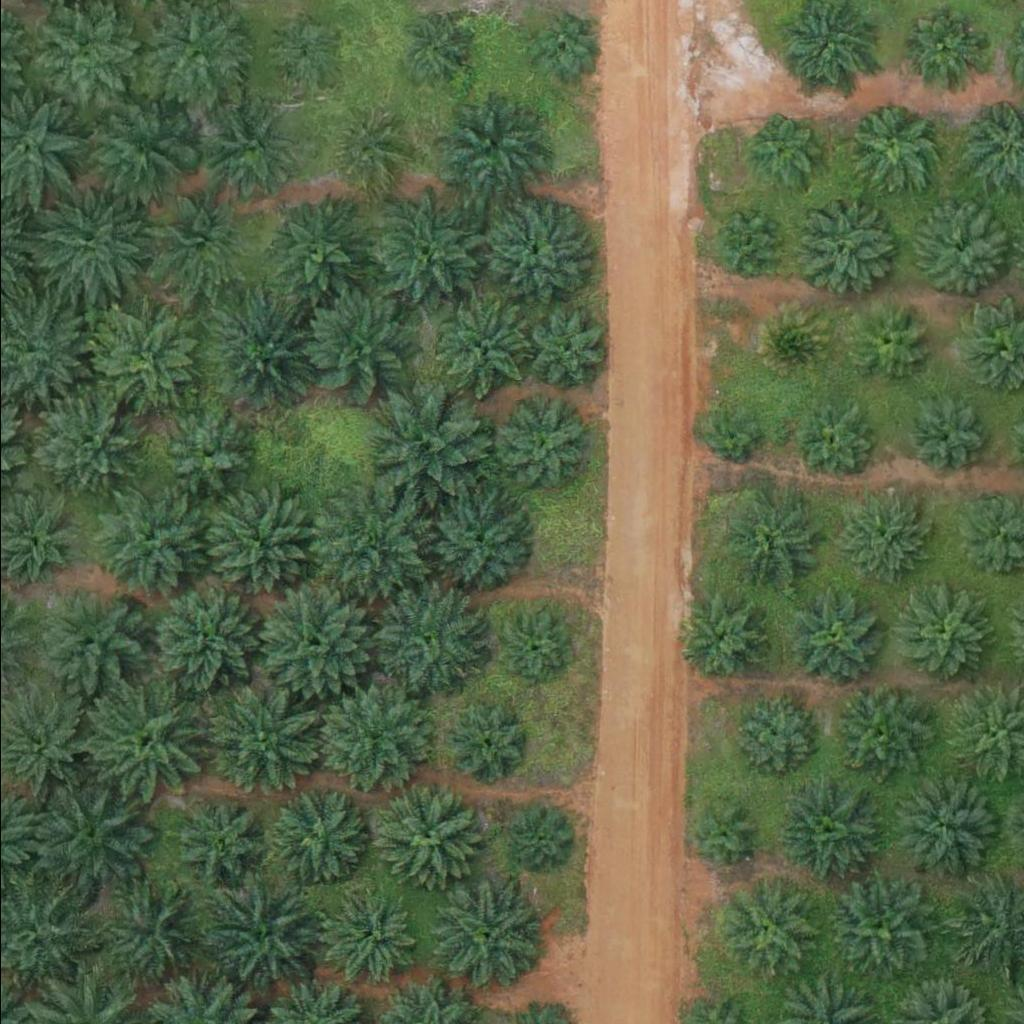Kelapa_Sawit: (426, 82, 552, 207), (365, 189, 491, 314), (295, 284, 421, 409), (362, 381, 488, 506), (303, 484, 429, 609), (138, 578, 264, 703), (196, 679, 322, 804), (81, 678, 207, 803), (25, 774, 151, 899), (205, 870, 331, 995), (86, 869, 212, 994), (197, 490, 311, 603), (82, 92, 195, 205), (28, 188, 141, 301), (93, 488, 206, 601), (27, 582, 140, 695), (316, 682, 429, 795), (259, 585, 373, 697), (256, 198, 369, 310), (140, 185, 253, 297), (203, 297, 316, 409), (84, 302, 197, 414), (29, 383, 142, 495), (375, 580, 488, 692), (828, 880, 929, 980), (716, 880, 817, 980), (896, 780, 997, 880), (774, 781, 875, 881), (830, 686, 931, 786), (889, 584, 990, 684), (487, 199, 588, 299), (378, 787, 479, 887), (263, 786, 364, 886), (437, 889, 538, 989), (316, 883, 417, 983), (673, 587, 773, 687), (723, 493, 823, 593), (909, 203, 1009, 303), (791, 199, 891, 299), (431, 298, 531, 398), (425, 488, 525, 588), (168, 793, 268, 893), (729, 692, 817, 780), (897, 10, 985, 98), (162, 412, 250, 500), (789, 597, 877, 684), (846, 493, 934, 580), (844, 109, 932, 196), (209, 107, 297, 194), (522, 304, 610, 391), (496, 398, 584, 485), (845, 306, 921, 381), (906, 396, 982, 471), (491, 609, 567, 684), (682, 798, 758, 873), (797, 403, 873, 478), (756, 307, 832, 382), (707, 205, 783, 280), (329, 113, 404, 188), (448, 706, 523, 781), (749, 115, 824, 190), (523, 7, 598, 82), (393, 10, 468, 85), (263, 16, 338, 91), (506, 807, 569, 870), (697, 405, 760, 467)
